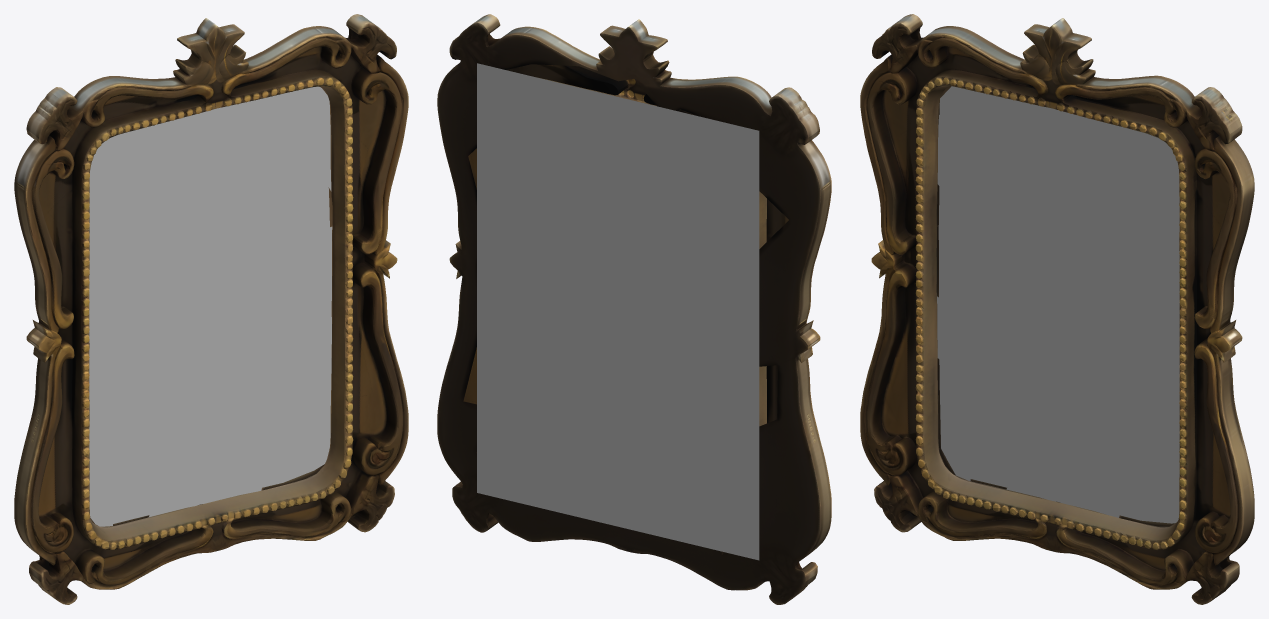
File: mirror02texbaked.obj
3 views of the same model, side by side, from view 1: azimuth 30°, elevation 25°; view 2: azimuth 150°, elevation 25°; view 3: azimuth 330°, elevation 25° (orthographic).
Visible parts, largest first — view 1: Plane; view 2: Plane; view 3: Plane.
Boxes of the visible parts, box(x1,y1,x2,y2) form: Plane: box(14, 14, 408, 604); Plane: box(437, 14, 831, 604); Plane: box(860, 14, 1254, 604).
Size of the model in its own units: 1.48 by 2 by 0.1211.
2 materials, 1 textured.
